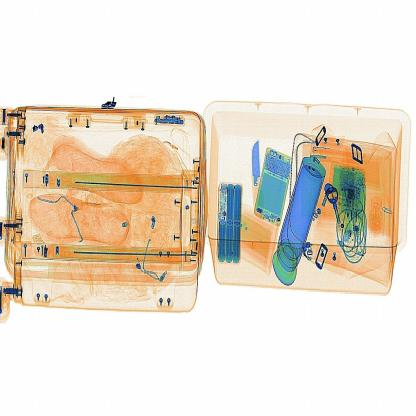wrench: (245, 127, 271, 218)
